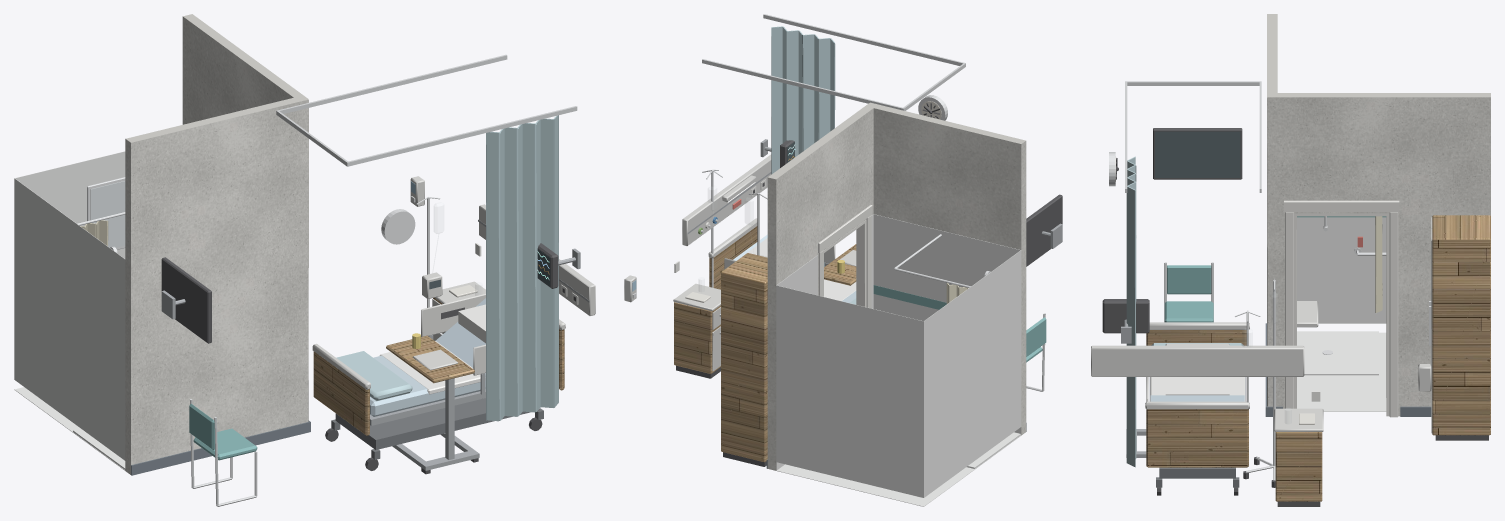
Rendered from room_ward_388x358.glb.
The picture shows the model from 3 angles, left to right: view 1: azimuth 30°, elevation 25°; view 2: azimuth 150°, elevation 25°; view 3: azimuth 270°, elevation 25°; orthographic projection. The views are drawn at different scales.
Visible parts, largest first — view 1: room_ward_388x358_plaster, room_ward_388x358_tile_c, room_ward_388x358_curtain, room_ward_388x358_cart_w, room_ward_388x358_laminate, room_ward_388x358_steel, room_ward_388x358_steel_d, room_ward_388x358_alu, room_ward_388x358_dark, room_ward_388x358_bed_b, room_ward_388x358_chrome, room_ward_388x358_vinyl_t (+3 smaller); view 2: room_ward_388x358_tile_c, room_ward_388x358_plaster, room_ward_388x358_laminate, room_ward_388x358_curtain, room_ward_388x358_cart_w, room_ward_388x358_dark, room_ward_388x358_frame, room_ward_388x358_alu, room_ward_388x358_chrome, room_ward_388x358_vinyl_t, room_ward_388x358_bed_w, room_ward_388x358_steel (+1 smaller); view 3: room_ward_388x358_plaster, room_ward_388x358_laminate, room_ward_388x358_tile_c, room_ward_388x358_cart_w, room_ward_388x358_frame, room_ward_388x358_screen, room_ward_388x358_curtain, room_ward_388x358_dark, room_ward_388x358_vinyl_t, room_ward_388x358_bed_w, room_ward_388x358_chrome, room_ward_388x358_alu (+6 smaller).
Boxes of the visible parts, x1,y1,x2,y2 form: room_ward_388x358_plaster: (125, 14, 308, 474); room_ward_388x358_tile_c: (14, 151, 125, 470); room_ward_388x358_curtain: (336, 115, 558, 421); room_ward_388x358_cart_w: (312, 176, 595, 389); room_ward_388x358_laminate: (313, 297, 564, 435); room_ward_388x358_steel: (161, 219, 589, 470); room_ward_388x358_steel_d: (331, 398, 543, 459); room_ward_388x358_alu: (276, 54, 577, 166); room_ward_388x358_dark: (161, 243, 575, 343); room_ward_388x358_bed_b: (370, 298, 485, 416); room_ward_388x358_chrome: (77, 177, 442, 506); room_ward_388x358_vinyl_t: (189, 403, 257, 460); room_ward_388x358_tile_c: (776, 214, 1021, 506); room_ward_388x358_plaster: (767, 102, 1026, 470); room_ward_388x358_laminate: (674, 226, 856, 462); room_ward_388x358_curtain: (771, 26, 856, 304); room_ward_388x358_cart_w: (624, 154, 856, 371); room_ward_388x358_dark: (676, 103, 1062, 466); room_ward_388x358_frame: (818, 205, 872, 308); room_ward_388x358_alu: (702, 14, 965, 110); room_ward_388x358_chrome: (632, 95, 1045, 391); room_ward_388x358_vinyl_t: (873, 285, 1046, 362); room_ward_388x358_bed_w: (743, 238, 856, 300); room_ward_388x358_steel: (687, 139, 1062, 266); room_ward_388x358_plaster: (1267, 14, 1490, 416); room_ward_388x358_laminate: (1146, 215, 1490, 501); room_ward_388x358_tile_c: (1297, 217, 1386, 411); room_ward_388x358_cart_w: (1091, 217, 1432, 433); room_ward_388x358_frame: (1284, 200, 1399, 417); room_ward_388x358_screen: (1155, 131, 1240, 177); room_ward_388x358_curtain: (1126, 156, 1243, 467); room_ward_388x358_dark: (1102, 128, 1488, 506); room_ward_388x358_vinyl_t: (1164, 216, 1386, 322); room_ward_388x358_bed_w: (1150, 377, 1244, 401); room_ward_388x358_chrome: (1109, 152, 1431, 480); room_ward_388x358_alu: (1125, 81, 1261, 192).
Bounding box in the file's own units: 3.94 × 3.31 × 3.75.
Materials: 33 (2 with a texture image).
